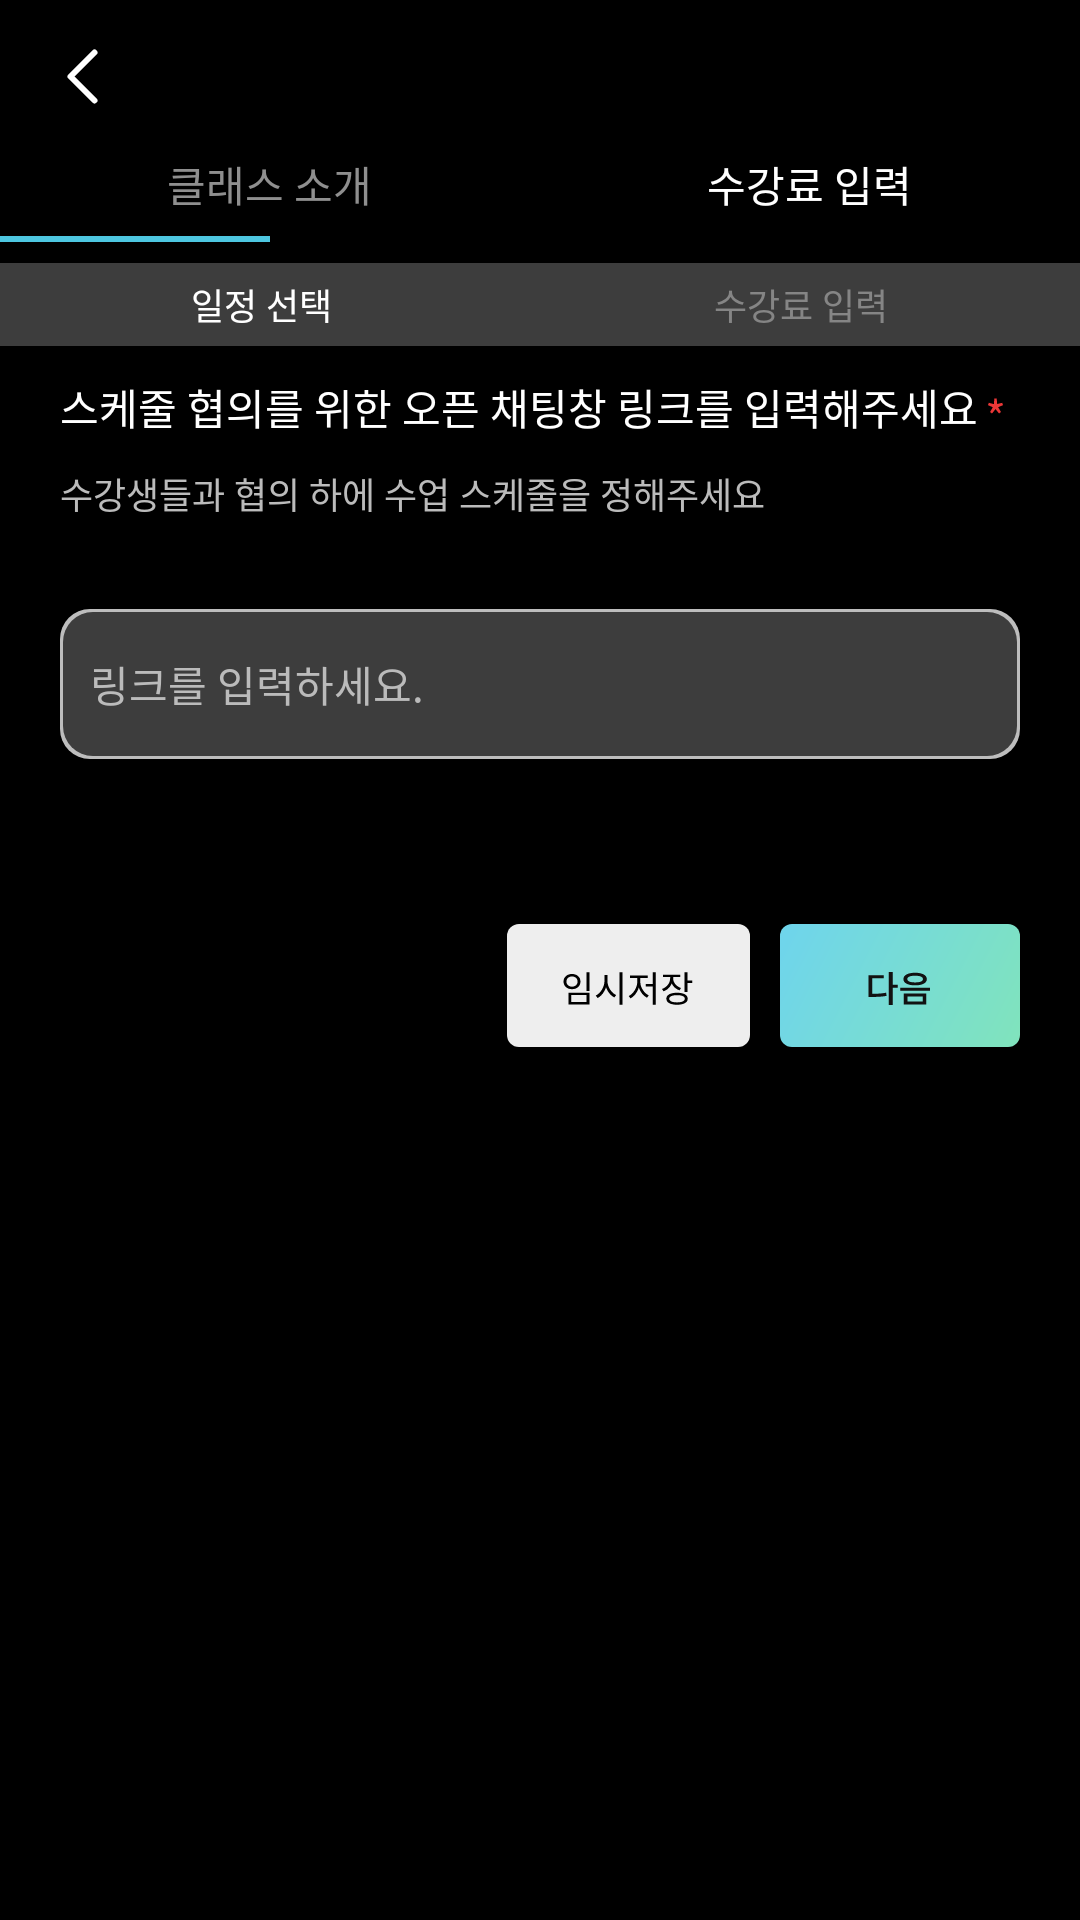

Icon click points for this 1080 × 1920 phone screenshot, format point (x, y):
back key: point (82, 76)
